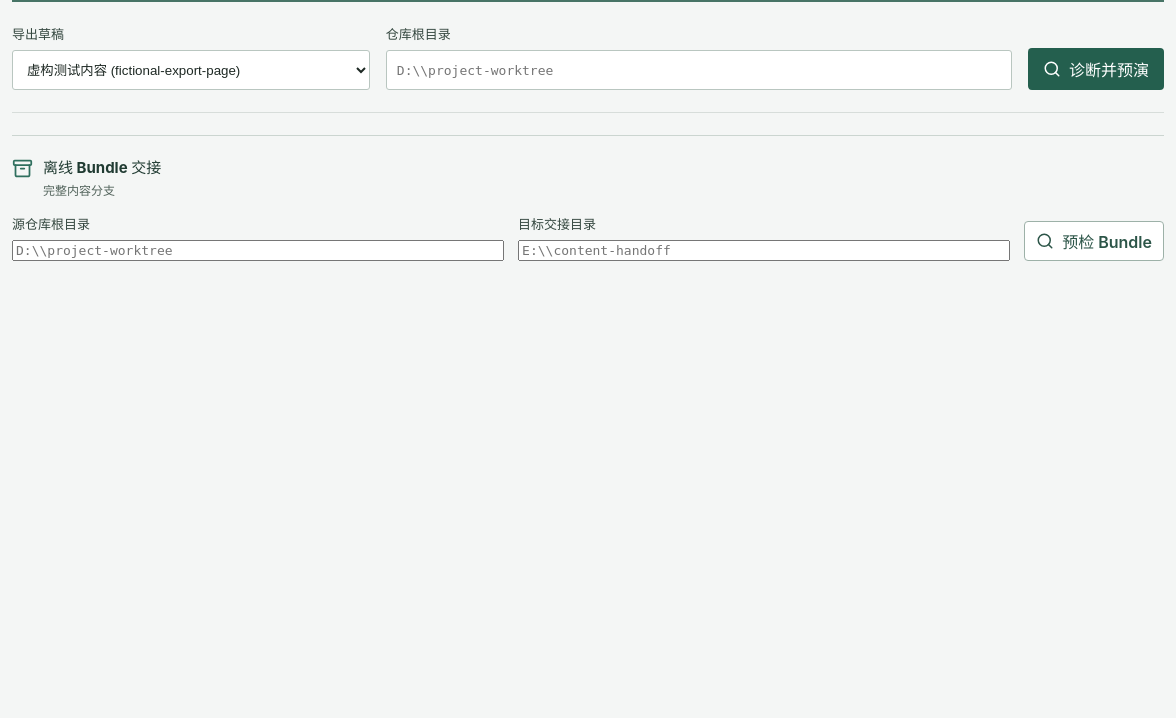
Test: shows repository conflicts as a blocked dry-run
This screenshot has width=1176, height=718.
Type "D:\\dirty-worktree" into the field labelled "仓库根目录" at (699, 70), box [386, 50, 1012, 90]
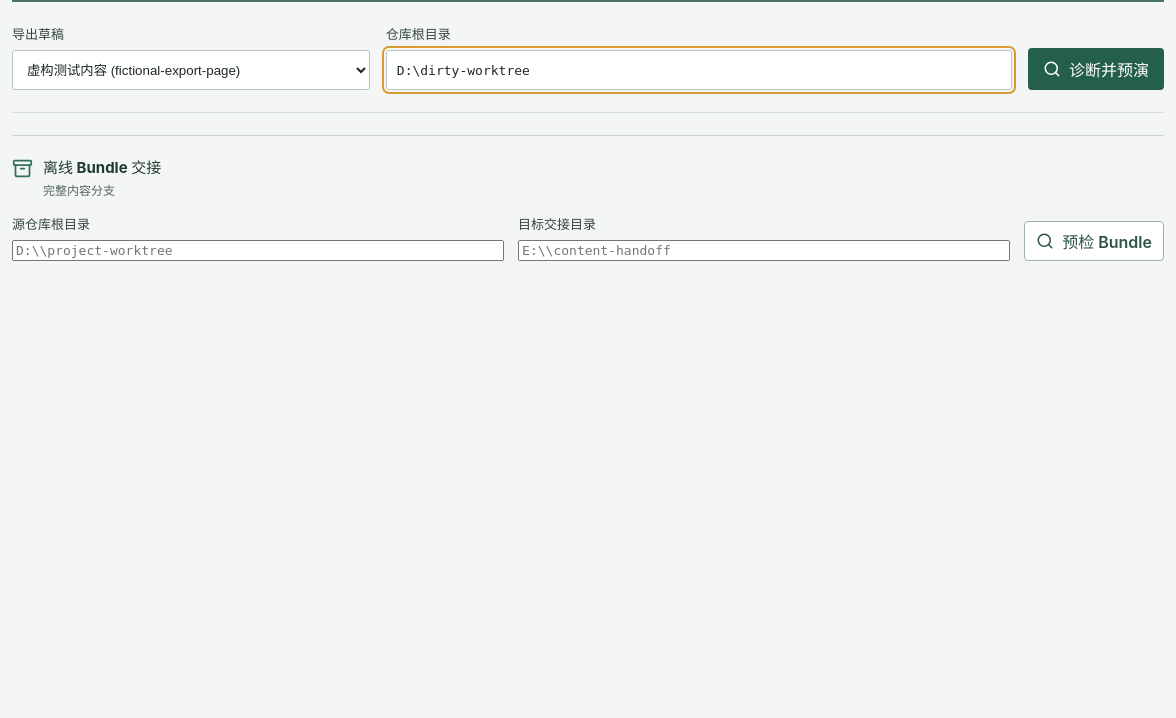
Click the button "诊断并预演" at (1096, 69), box [1028, 48, 1164, 90]
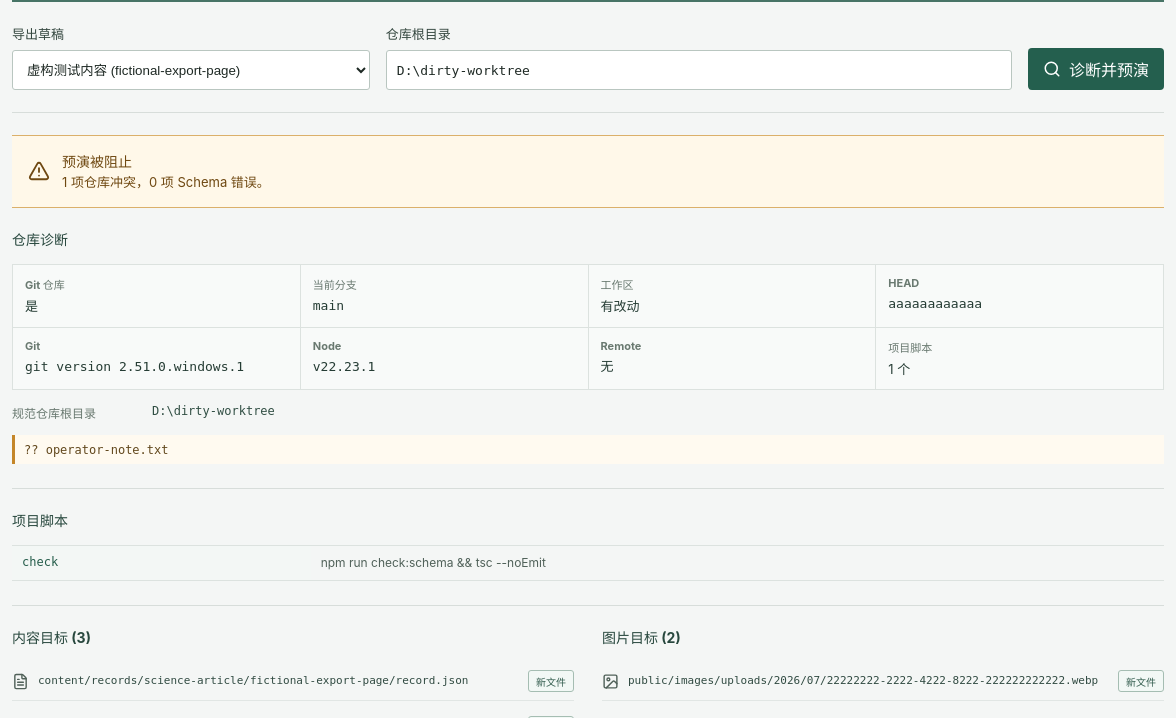
Expected: the text "预演被阻止" is shown, [62, 153, 132, 170]
Expected: the text "?? operator-note.txt" is shown, [24, 443, 168, 457]
